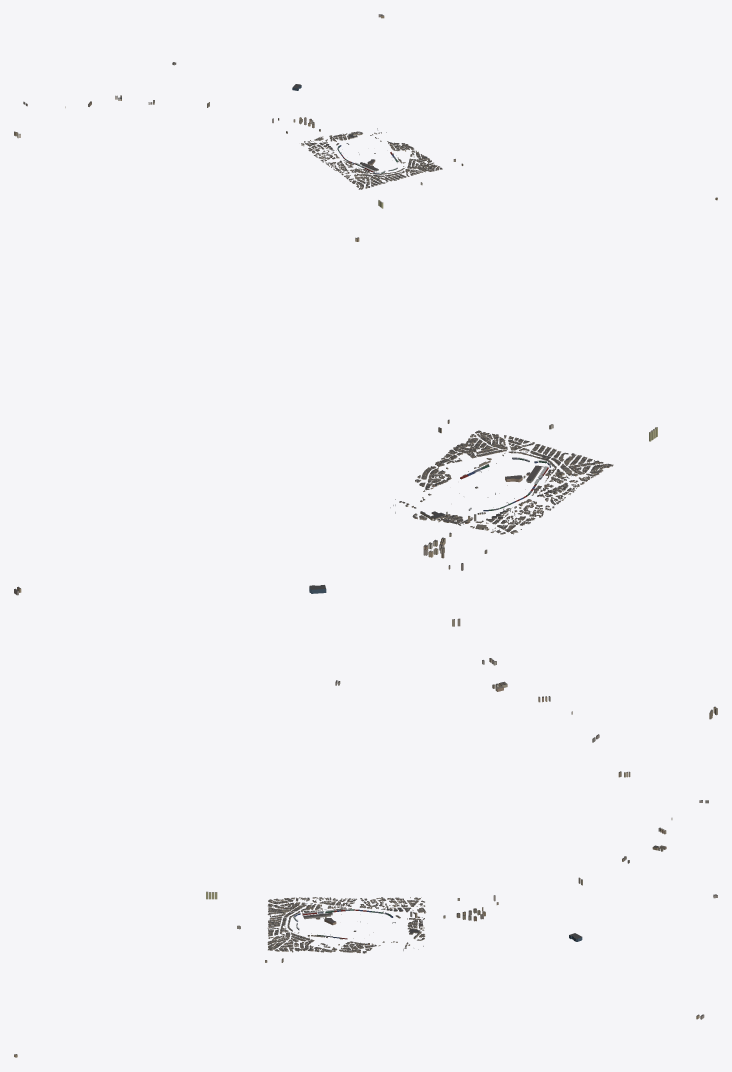
File: scenery.glb
3 renders of one model, top to bottom at view 1: azimuth 30°, elevation 25°; view 2: azimuth 150°, elevation 25°; view 3: azimuth 270°, elevation 25°, orthographic. The views are drawn at different scales.
Size of the model in its own units: 7333 by 120 by 7691.
